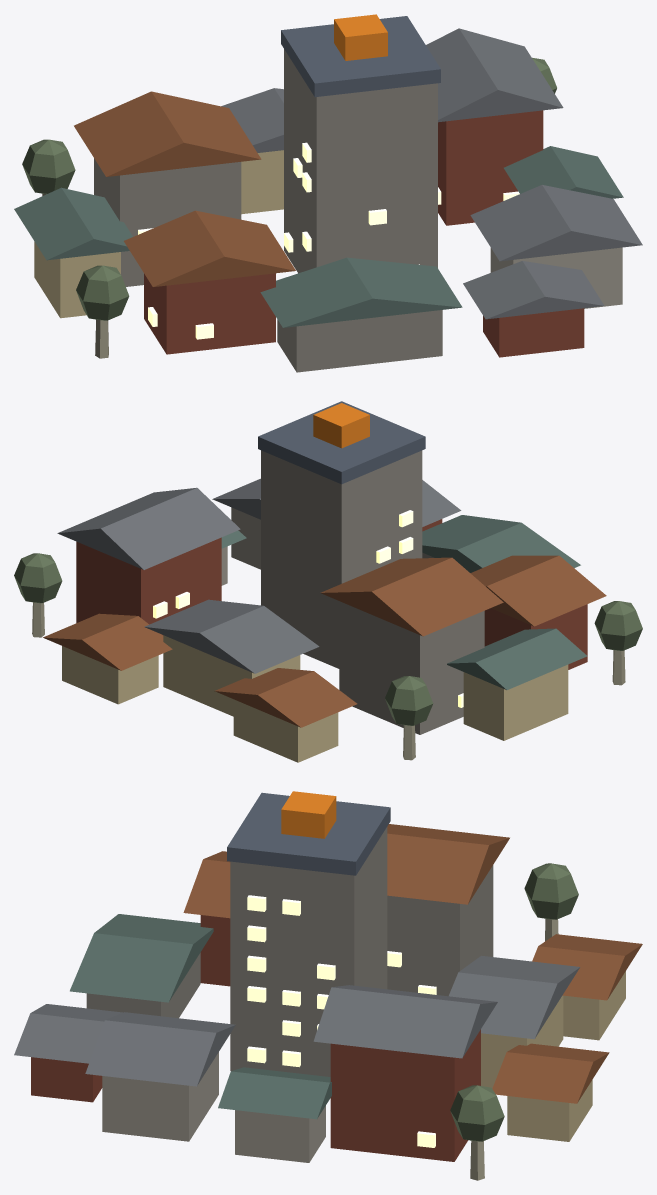
Rendered from overworld-settlement-oceanian-town.glb.
3 renders of one model, top to bottom at view 1: azimuth 30°, elevation 25°; view 2: azimuth 150°, elevation 25°; view 3: azimuth 270°, elevation 25°, orthographic. The views are drawn at different scales.
Parts seen in each view (by area): view 1: settlement; view 2: settlement; view 3: settlement.
Part boxes in pixels (left/top/right/bottom): settlement: left=14, top=14, right=642, bottom=372; settlement: left=14, top=401, right=642, bottom=762; settlement: left=14, top=791, right=642, bottom=1180.
Bounding box in the file's own units: 0.5329 × 0.214 × 0.4899.
